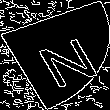N_NW: (17, 24, 93, 86)
